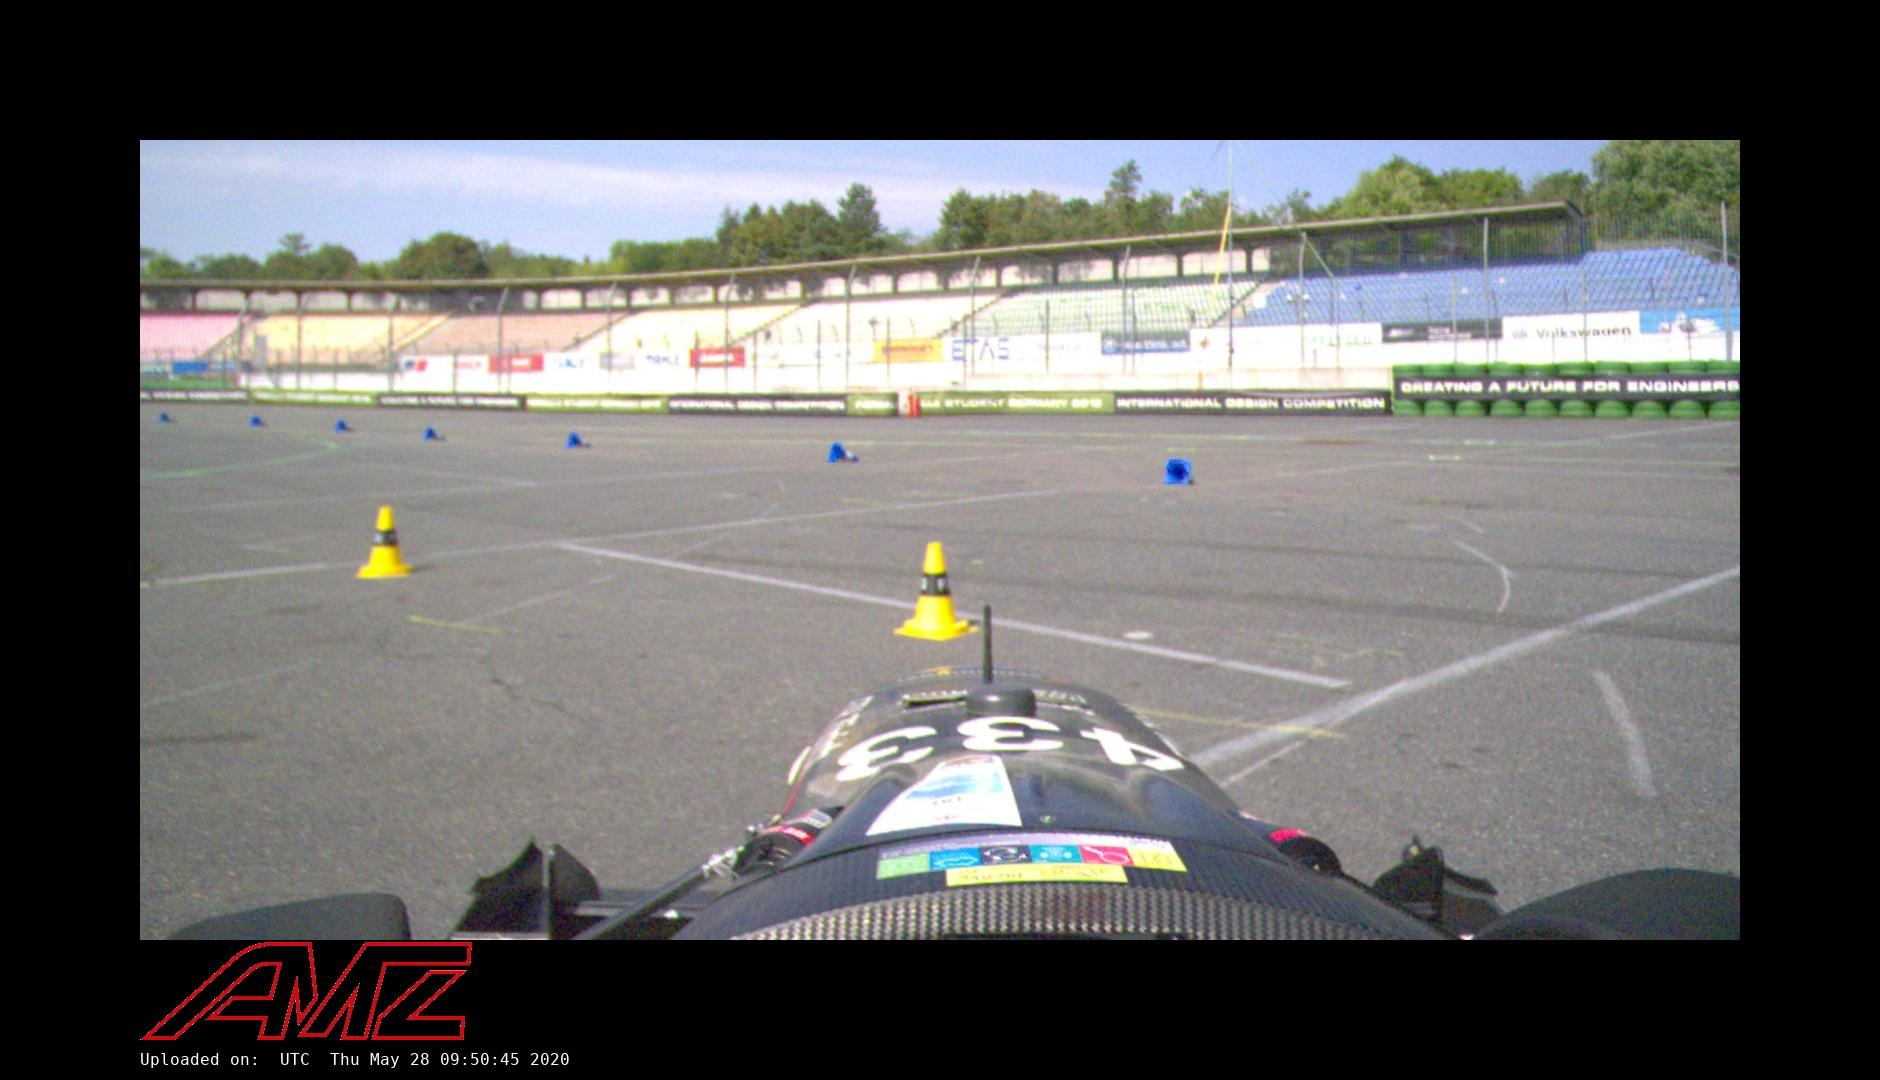blue_cone: (1163, 457, 1192, 486), (826, 442, 860, 464), (566, 431, 591, 450), (422, 426, 445, 442), (334, 419, 355, 433)
yellow_cone: (894, 540, 980, 641), (354, 505, 418, 580)
